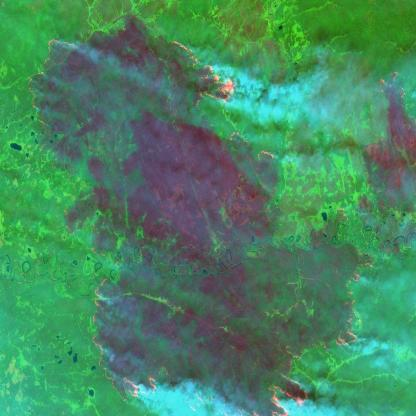fire: (90, 249, 374, 416), (167, 35, 240, 110), (374, 62, 410, 110)
